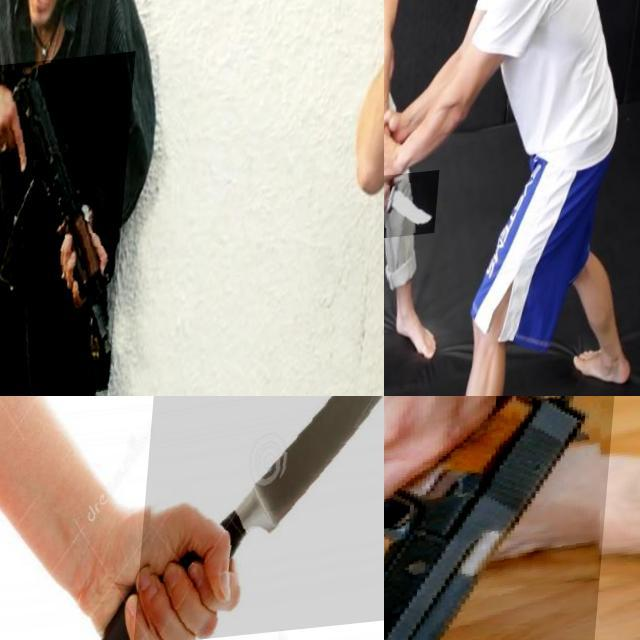-: (142, 396, 384, 640), (384, 177, 445, 247)
gun-knife-thesis - v11 Yolov5 augmented: (384, 396, 624, 640), (0, 57, 139, 396)
